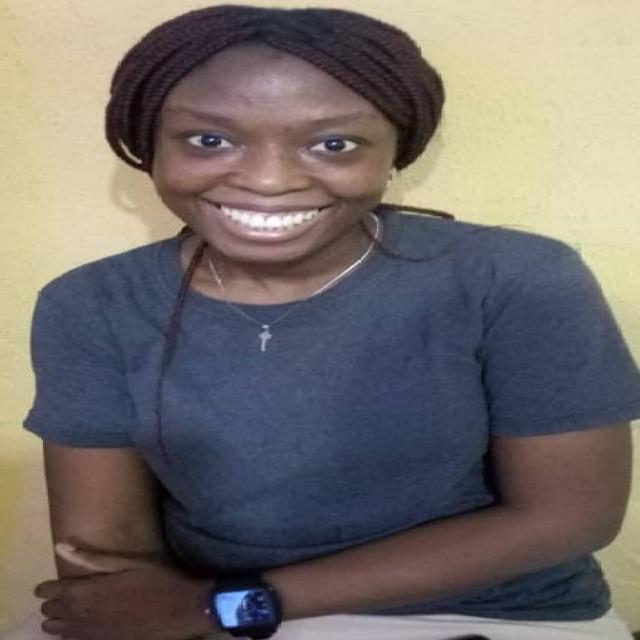happy: (133, 16, 410, 268)
